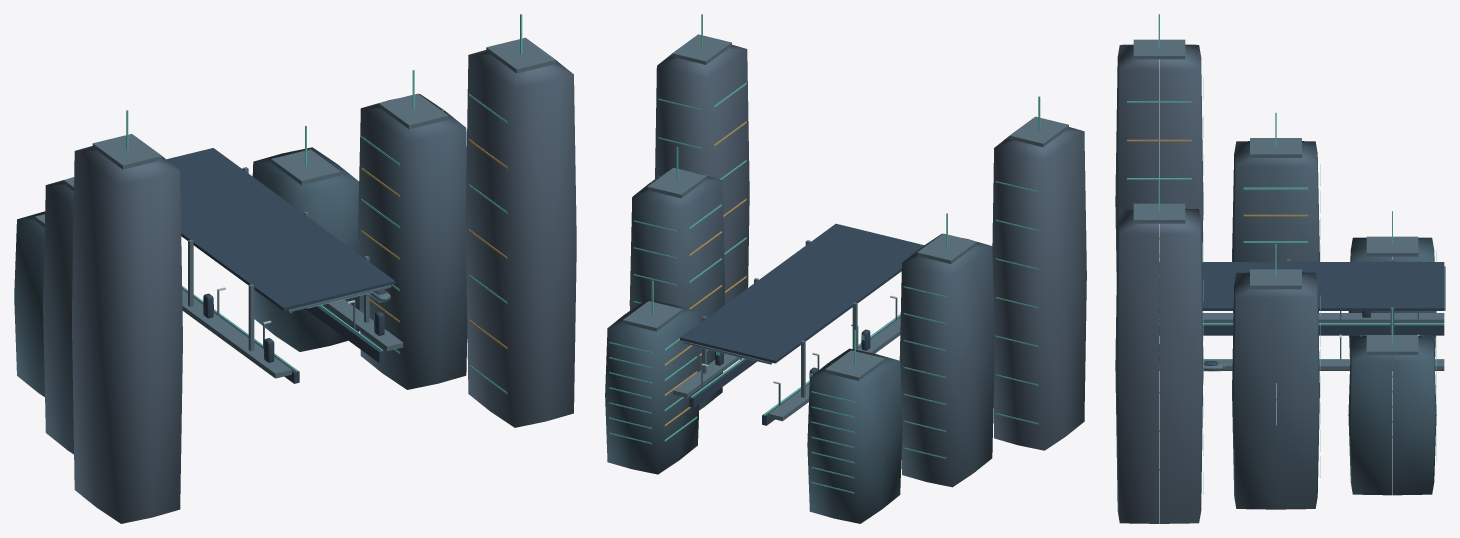
Rendered from station.glb.
3 renders of one model, left to right at view 1: azimuth 30°, elevation 25°; view 2: azimuth 150°, elevation 25°; view 3: azimuth 270°, elevation 25°, orthographic. The views are drawn at different scales.
Visible parts, largest first — view 1: station; view 2: station; view 3: station.
Boxes of the visible parts, x1,y1,x2,y2 form: station: [14, 14, 576, 523]; station: [605, 14, 1086, 523]; station: [1115, 14, 1445, 523].
Bounding box in the file's own units: 35 × 29 × 25.5.
